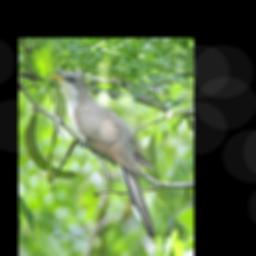Cuckoo: (47, 71, 156, 238)
